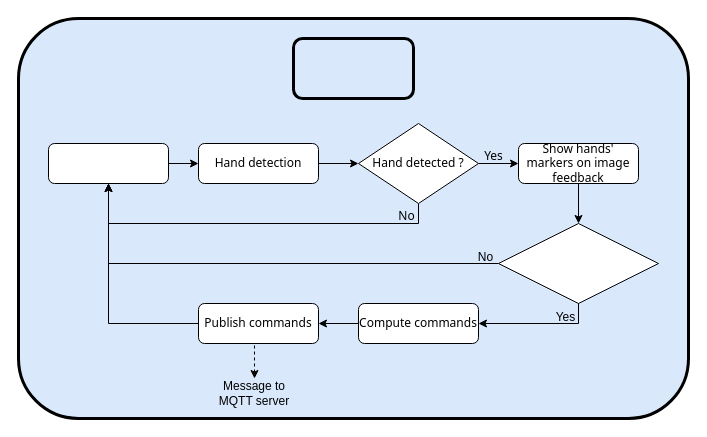
Some shapes in this 707 by 437 pixel diagram are drawn without their labels. The centre of each missing label's shape, as x and y in pixels:
"Camera gets image" goes at point (108, 163).
"RASPBERRY PI" goes at point (353, 68).
"Time since last command > 0.5 s ?" goes at point (578, 263).
